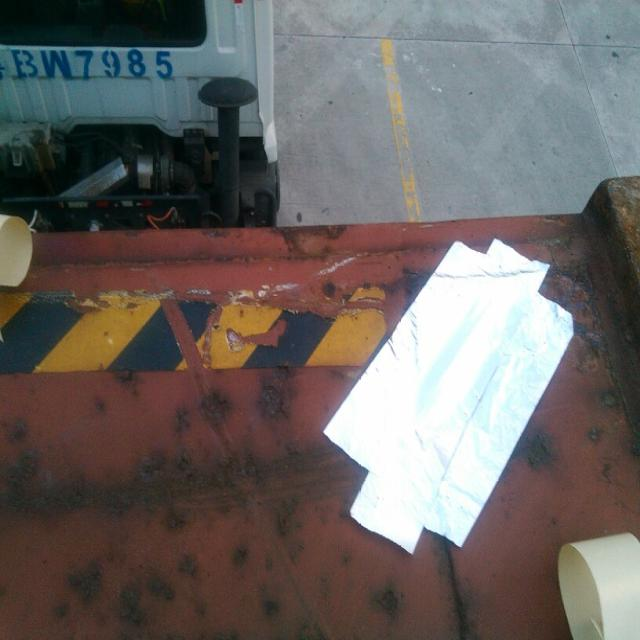rust: (269, 217, 353, 272)
